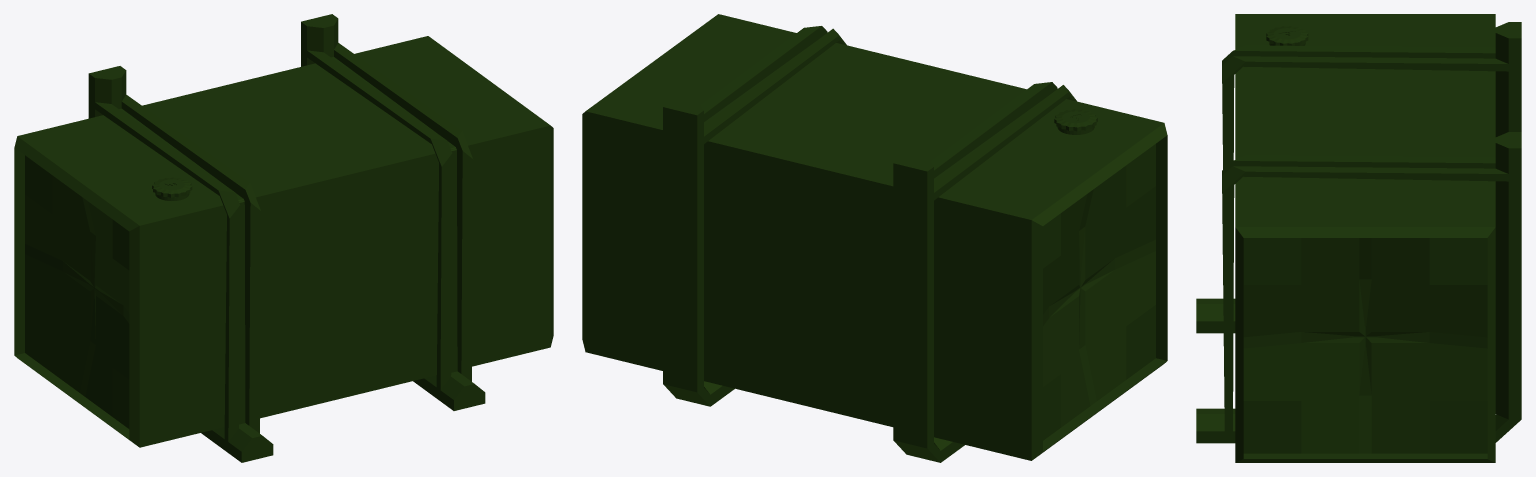
File: gas_tank.fbx
3 renders of one model, left to right at view 1: azimuth 30°, elevation 25°; view 2: azimuth 150°, elevation 25°; view 3: azimuth 270°, elevation 25°, orthographic. The views are drawn at different scales.
Visible parts, largest first — view 1: Cube; view 2: Cube; view 3: Cube.
Part boxes in pixels (x1,y1,x2,y2): Cube: (14,14,553,462); Cube: (582,14,1167,462); Cube: (1196,14,1521,462).
Bounding box in the file's own units: 40 × 25 × 25.
